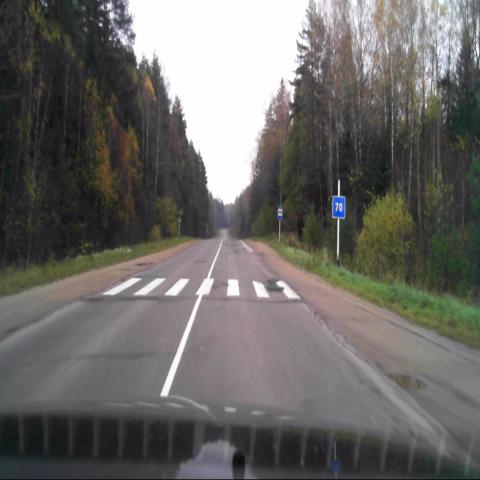6_2: (332, 196, 345, 220)
